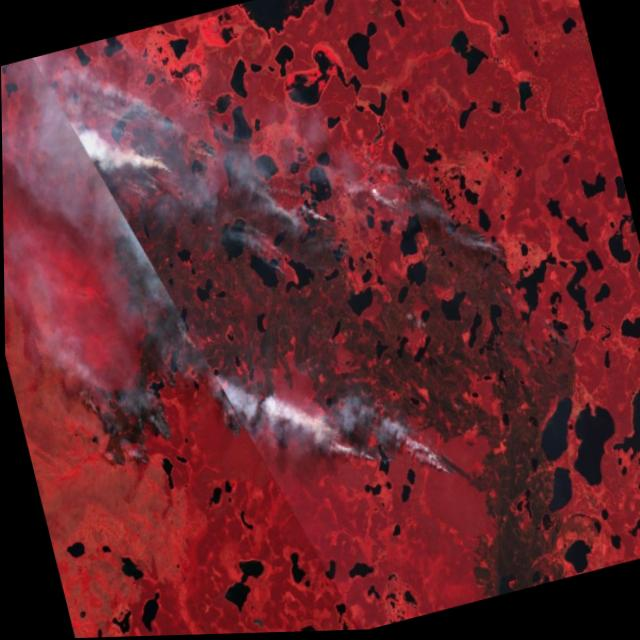fire: (66, 298, 468, 573), (64, 53, 351, 332), (360, 146, 437, 236), (458, 207, 524, 286)
